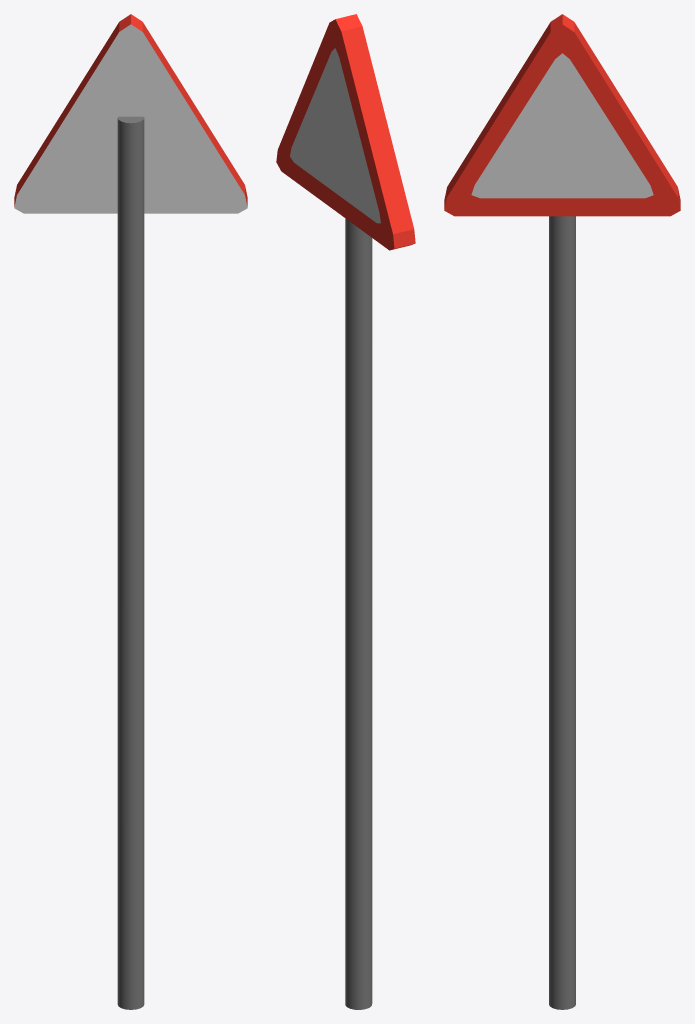
The model's file is P_Sign_02.dae.
3 renders of one model, left to right at view 1: azimuth 90°, elevation 25°; view 2: azimuth 210°, elevation 25°; view 3: azimuth 270°, elevation 25°, orthographic.
Visible parts, largest first — view 1: Sign_02; view 2: Sign_02; view 3: Sign_02.
Boxes of the visible parts, left/top/right/bottom form: Sign_02: left=14, top=14, right=247, bottom=1009; Sign_02: left=276, top=14, right=415, bottom=1009; Sign_02: left=444, top=14, right=680, bottom=1009.
Bounding box in the file's own units: 0.1065 × 0.6206 × 2.87.
